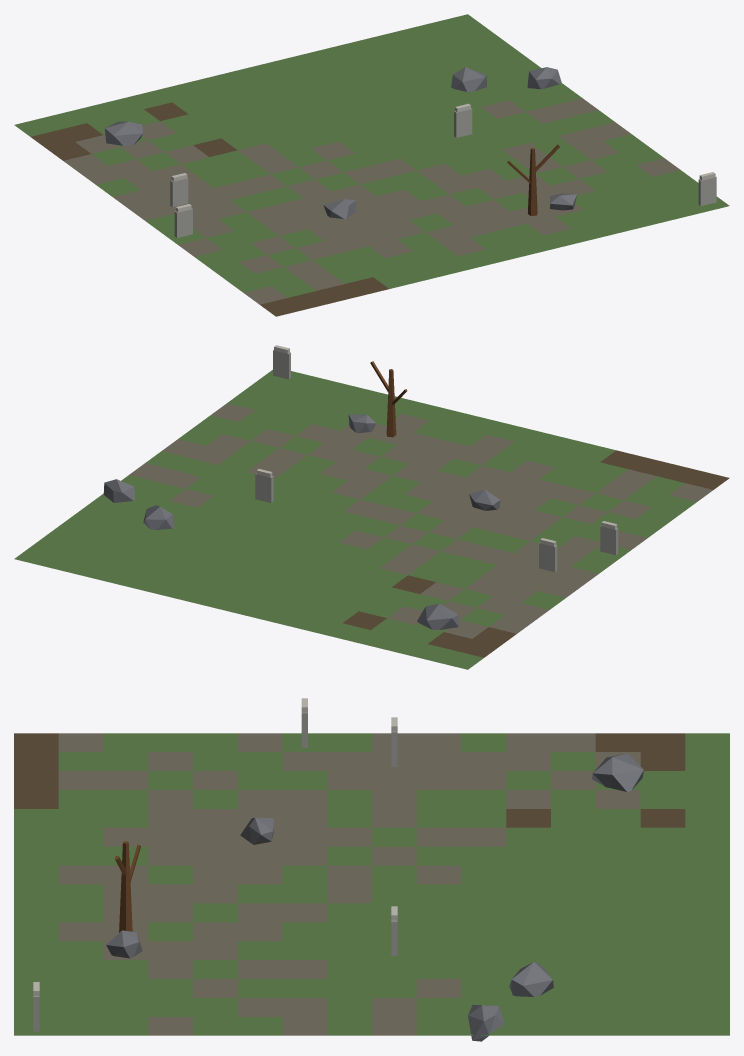
The model's file is chunk_0_19.glb.
3 views of the same model, one above another, from view 1: azimuth 30°, elevation 25°; view 2: azimuth 150°, elevation 25°; view 3: azimuth 270°, elevation 25° (orthographic). The views are drawn at different scales.
Parts seen in each view (by area): view 1: chunk_0_19; view 2: chunk_0_19; view 3: chunk_0_19.
Boxes of the visible parts, x1,y1,x2,y2 form: chunk_0_19: [14, 14, 729, 316]; chunk_0_19: [14, 345, 729, 669]; chunk_0_19: [14, 698, 729, 1041].
Size of the model in its own units: 16.02 by 2.6 by 16.
